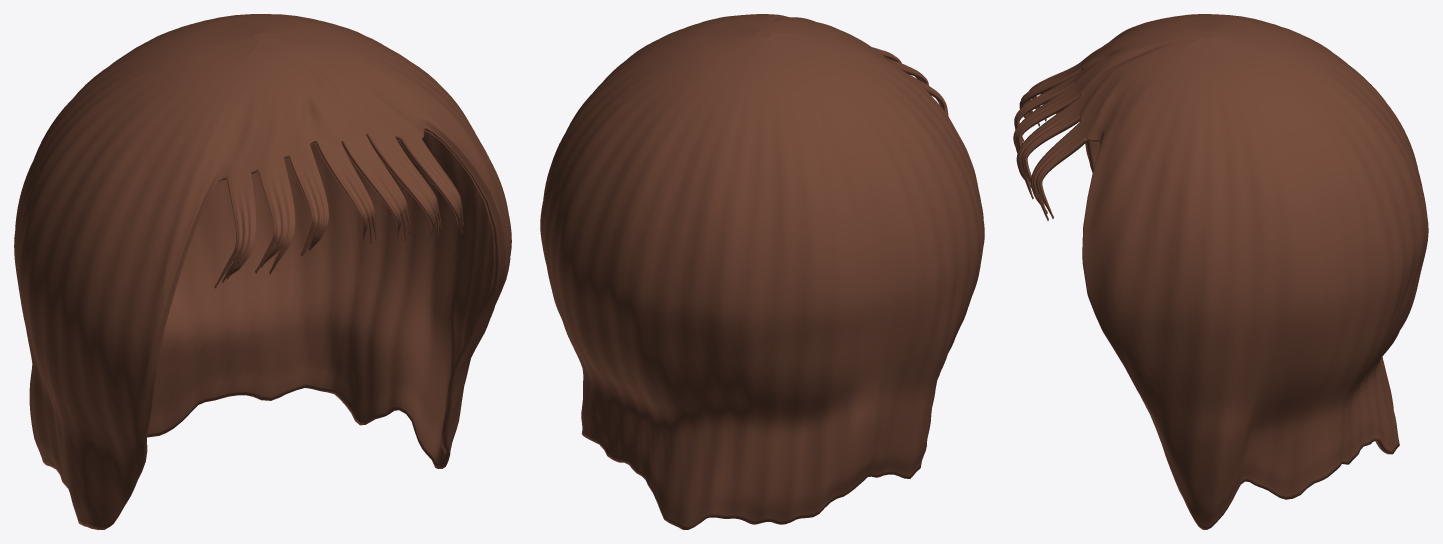
Rendered from side-sweep-none.glb.
The picture shows the model from 3 angles, left to right: view 1: azimuth 30°, elevation 25°; view 2: azimuth 150°, elevation 25°; view 3: azimuth 270°, elevation 25°; orthographic projection. The views are drawn at different scales.
Parts seen in each view (by area): view 1: Wispy bangs / continuous crown; view 2: Wispy bangs / continuous crown; view 3: Wispy bangs / continuous crown.
Part boxes in pixels (x1,y1,x2,y2): Wispy bangs / continuous crown: [14, 14, 511, 529]; Wispy bangs / continuous crown: [540, 14, 984, 529]; Wispy bangs / continuous crown: [1013, 14, 1428, 529].
Size of the model in its own units: 0.8388 by 0.8786 by 0.788.
